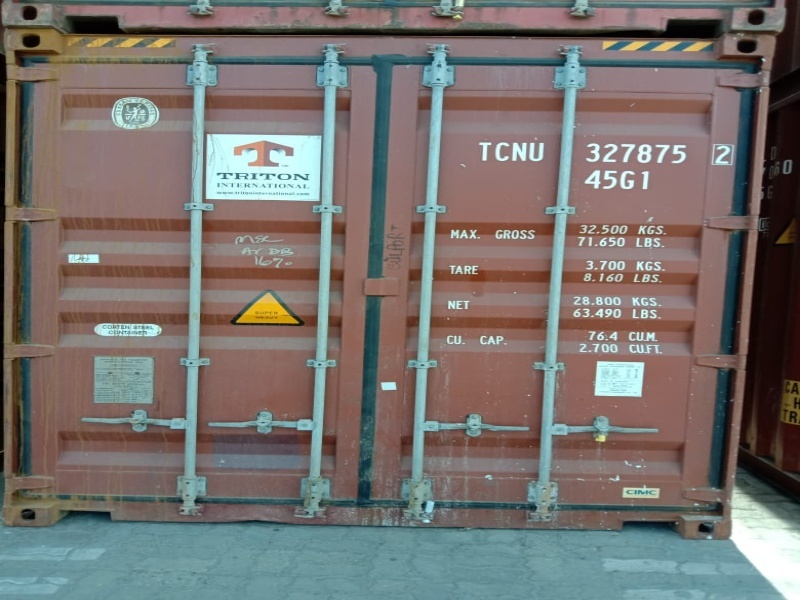iso: (587, 167, 653, 193)
mgw: (443, 218, 669, 253)
serial: (468, 132, 737, 171)
